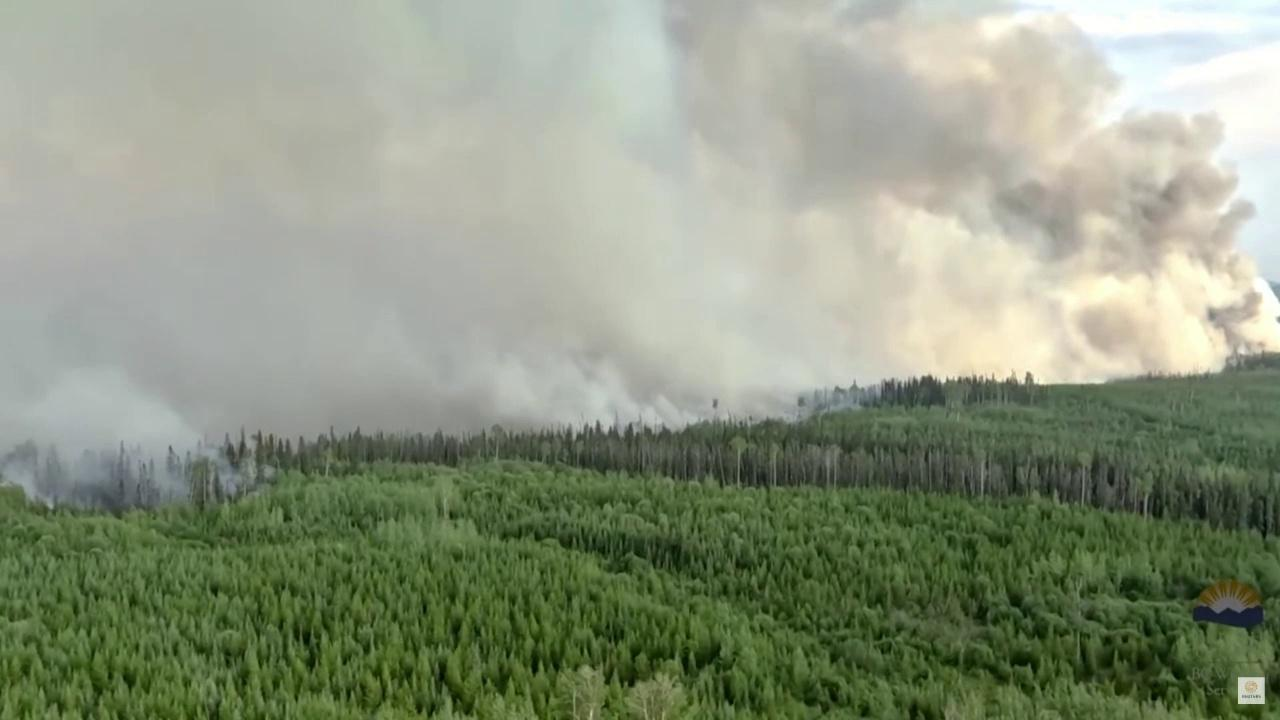smoke: (0, 0, 1280, 514)
